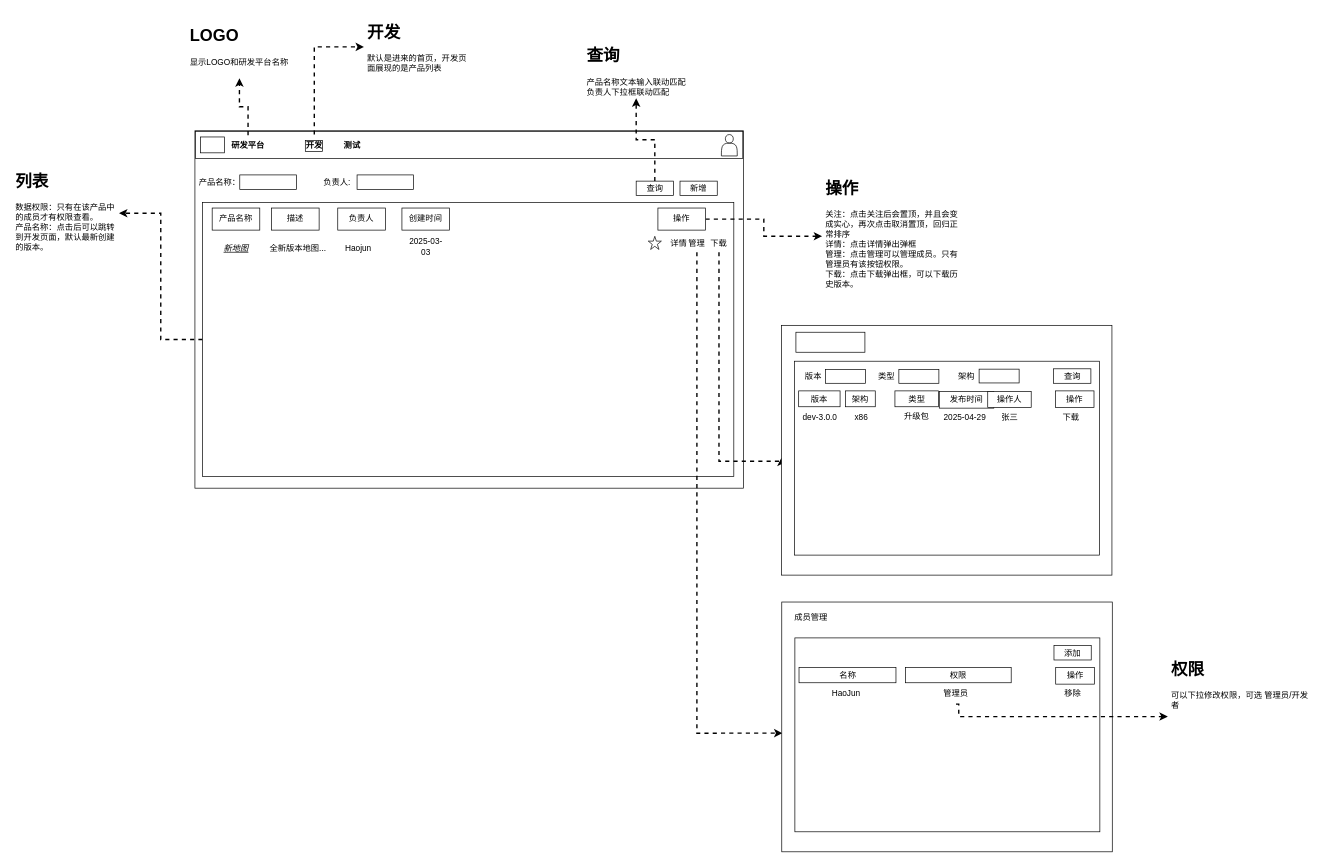
This 1324x864 diagram has some shape labels left out. Each missing label, with the centre of its shape:
"LOGO" belongs at (x=212, y=144).
"XX产品下载列表" belongs at (x=830, y=342).
